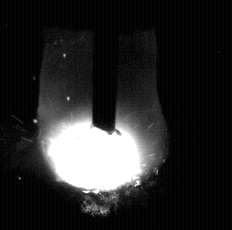arame: (93, 0, 117, 134)
poca: (37, 0, 167, 230)
